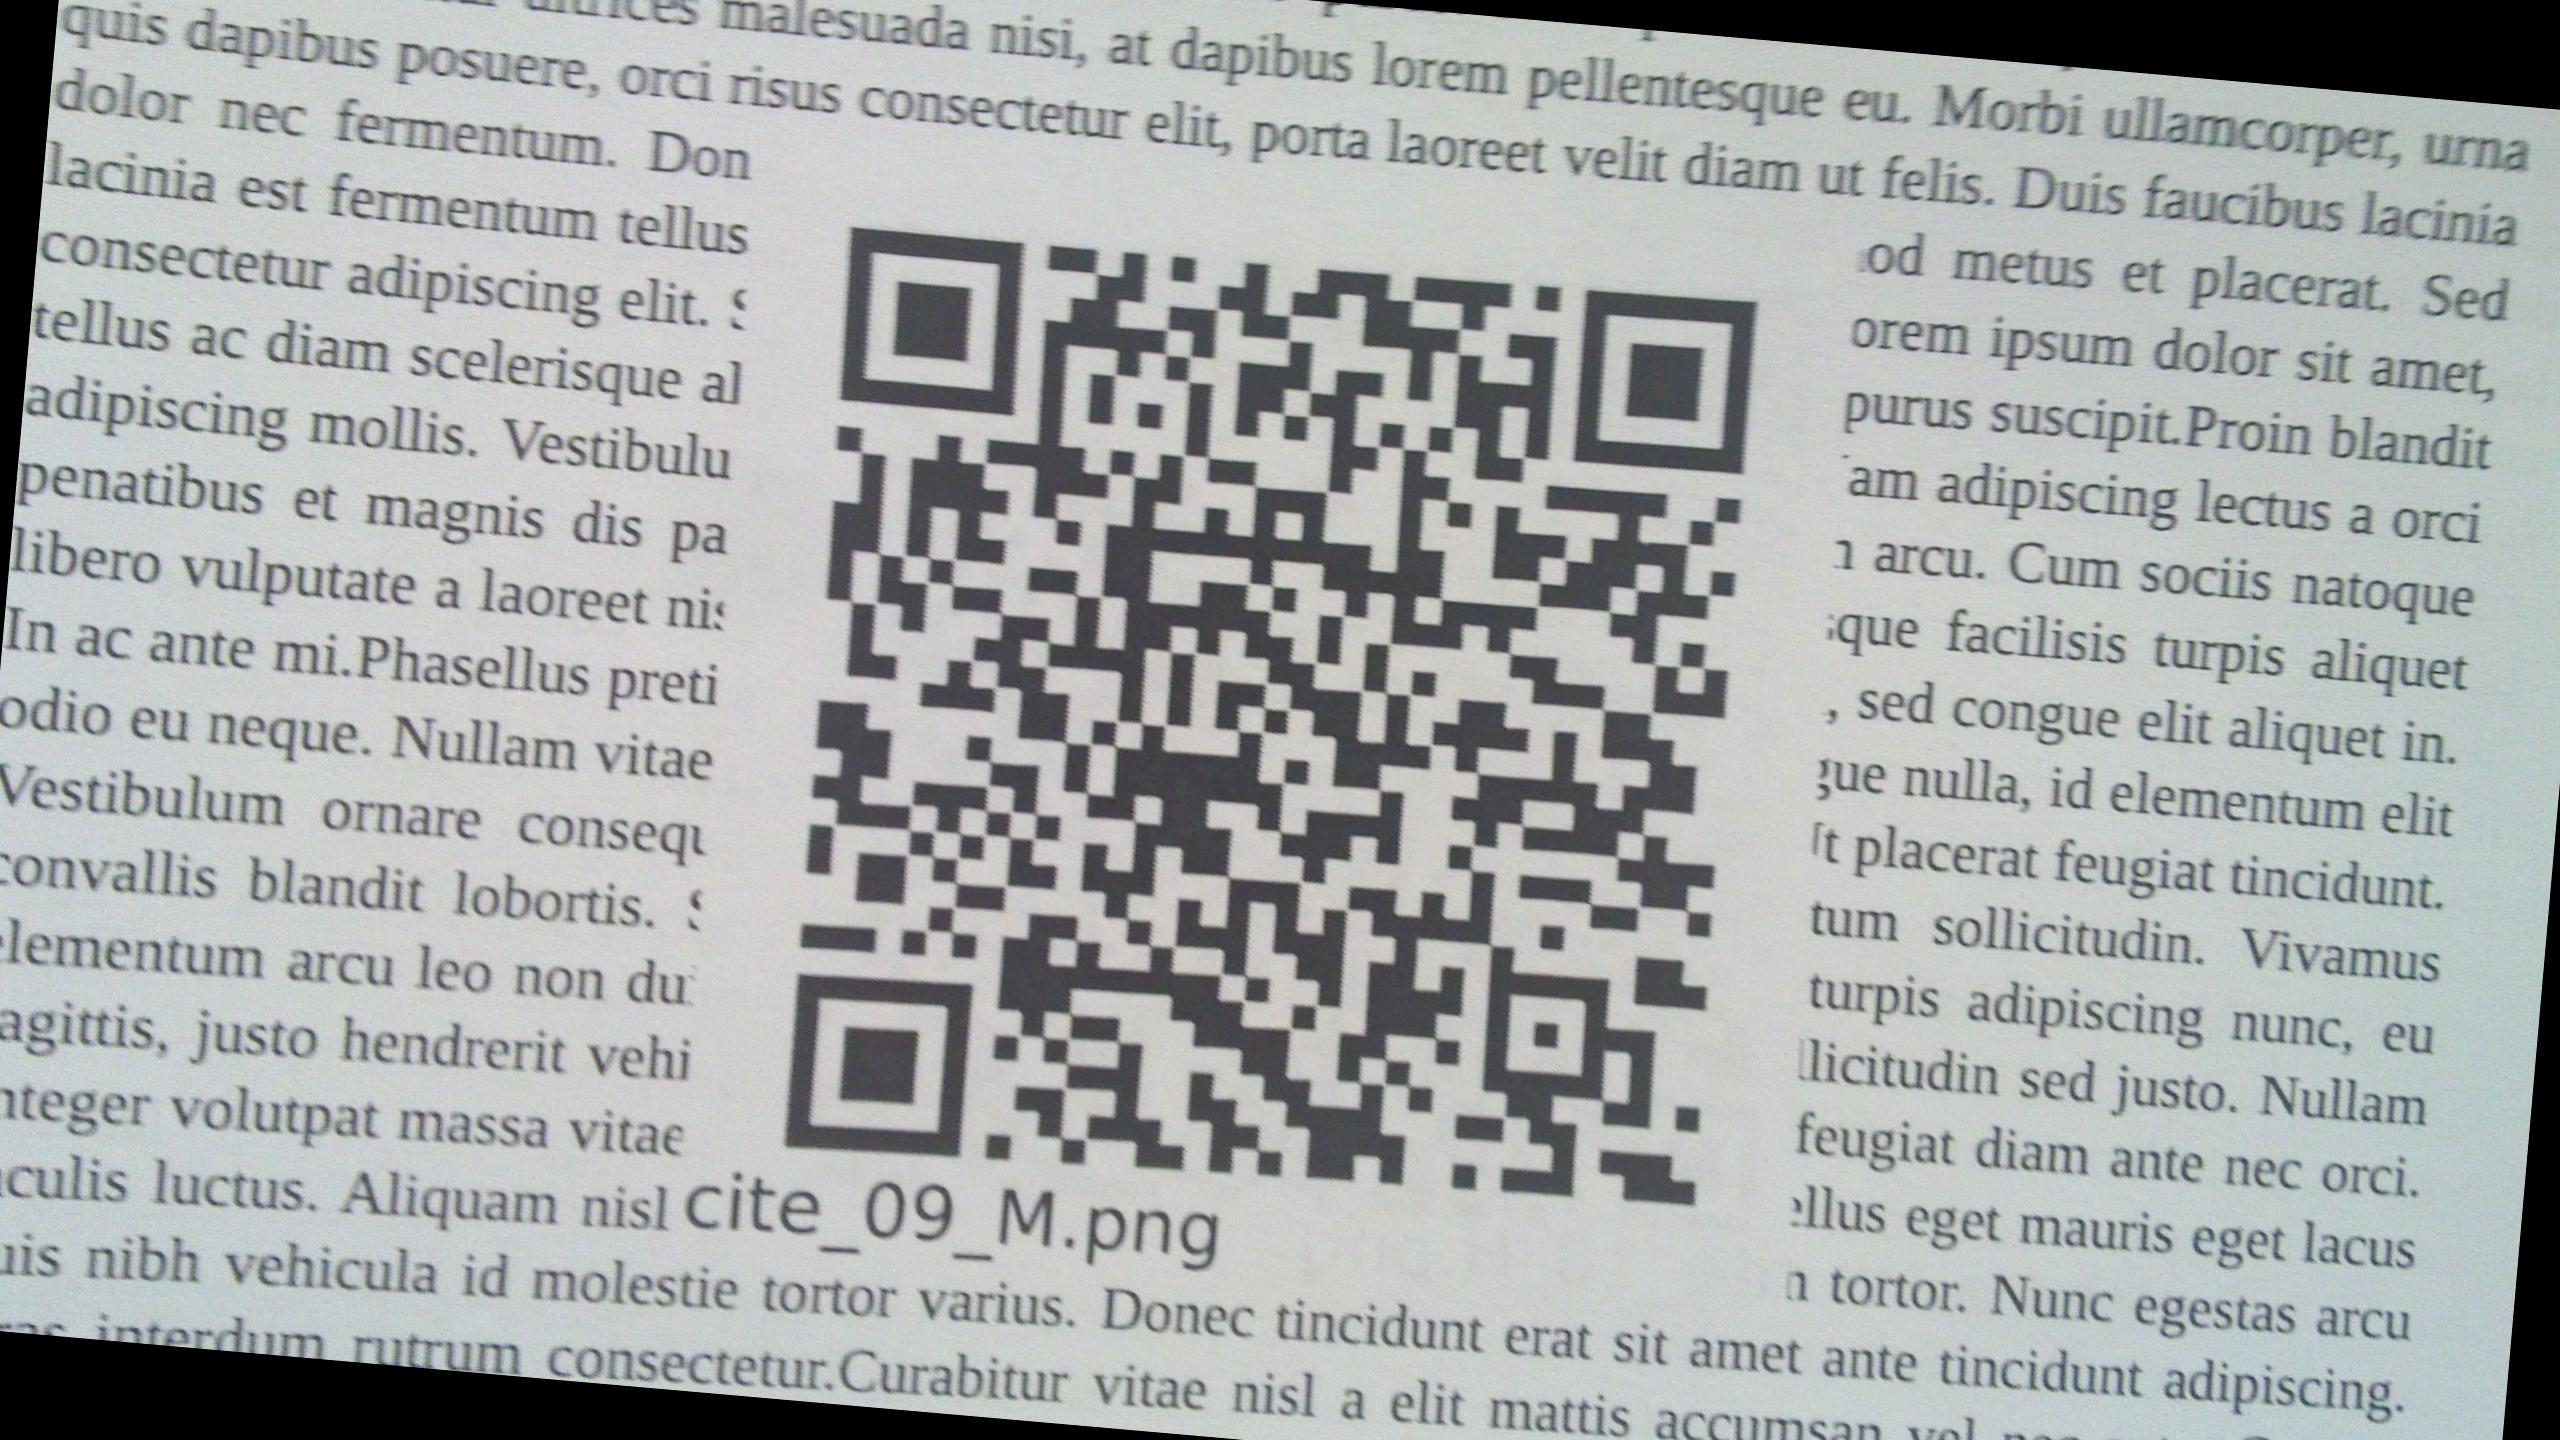QR: (775, 220, 1769, 1233)
